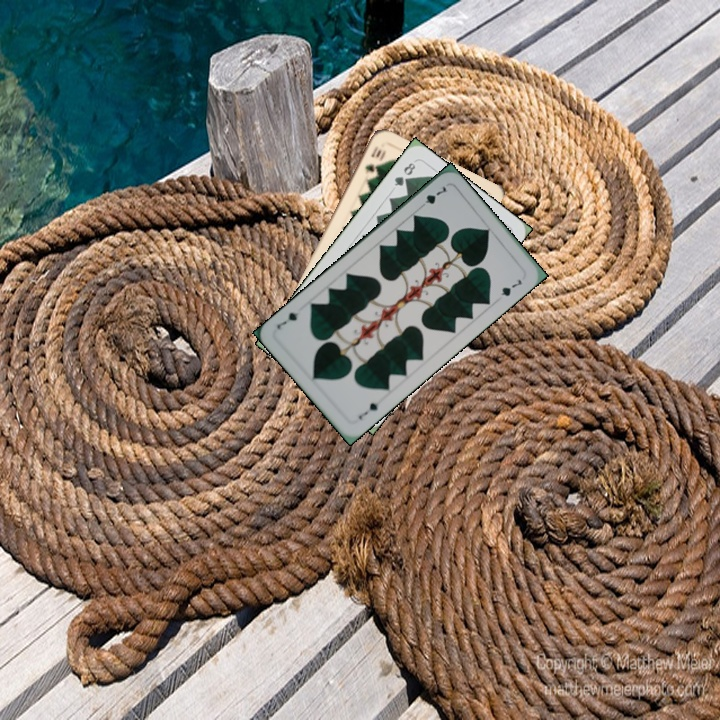G10: (361, 141, 387, 176)
G7: (415, 182, 451, 212), (354, 397, 385, 422)
G8: (390, 157, 418, 189)
